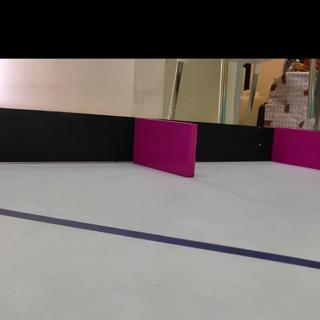xparking: (137, 122, 193, 177), (275, 129, 320, 168)
